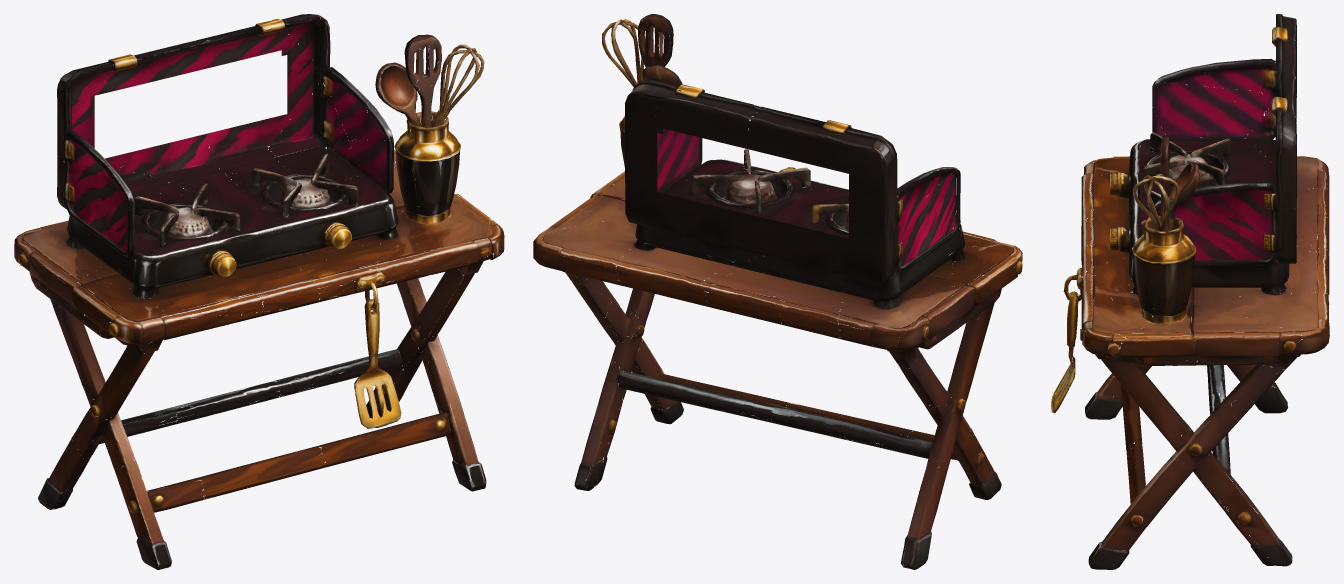
The model's file is stove.glb.
The picture shows the model from 3 angles, left to right: view 1: azimuth 30°, elevation 25°; view 2: azimuth 150°, elevation 25°; view 3: azimuth 270°, elevation 25°; orthographic projection. The views are drawn at different scales.
Visible parts, largest first — view 1: tripo_node_2710f299-439b-45ea-bf41-3d982c75c9ca; view 2: tripo_node_2710f299-439b-45ea-bf41-3d982c75c9ca; view 3: tripo_node_2710f299-439b-45ea-bf41-3d982c75c9ca.
Part boxes in pixels (left/top/right/bottom): tripo_node_2710f299-439b-45ea-bf41-3d982c75c9ca: left=14, top=14, right=504, bottom=569; tripo_node_2710f299-439b-45ea-bf41-3d982c75c9ca: left=533, top=14, right=1022, bottom=569; tripo_node_2710f299-439b-45ea-bf41-3d982c75c9ca: left=1051, top=14, right=1329, bottom=569.
Size of the model in its own units: 0.947 by 1 by 0.5994.
1 material, 1 textured.
